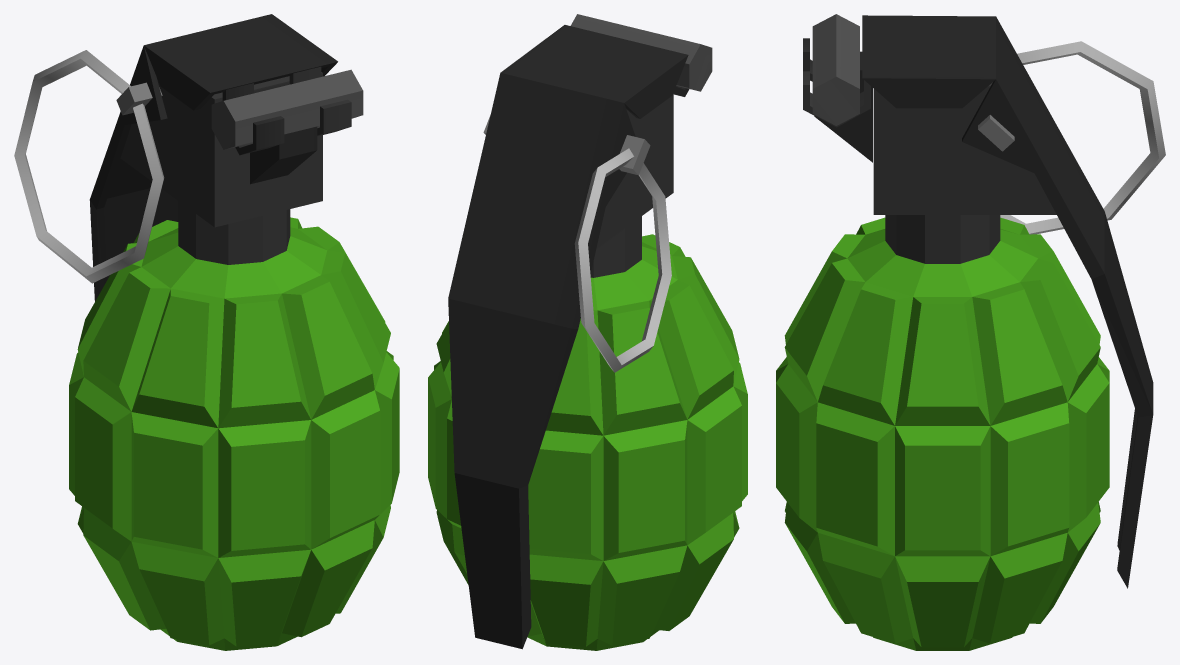
Rendered from Frag2.FBX.
3 views of the same model, side by side, from view 1: azimuth 30°, elevation 25°; view 2: azimuth 150°, elevation 25°; view 3: azimuth 270°, elevation 25° (orthographic). The views are drawn at different scales.
Parts seen in each view (by area): view 1: Sphere002, Sphere003, Object004, Object; view 2: Sphere003, Sphere002, Object004, Object; view 3: Sphere002, Sphere003, Object004, Object.
Boxes of the visible parts, left/top/right/bottom form: Sphere002: left=69, top=201, right=399, bottom=650; Sphere003: left=89, top=14, right=363, bottom=301; Object004: left=14, top=50, right=164, bottom=283; Object: left=116, top=82, right=162, bottom=115; Sphere003: left=448, top=14, right=712, bottom=649; Sphere002: left=428, top=216, right=747, bottom=650; Object004: left=574, top=148, right=671, bottom=372; Object: left=483, top=115, right=650, bottom=175; Sphere002: left=776, top=215, right=1109, bottom=650; Sphere003: left=803, top=14, right=1153, bottom=588; Object004: left=1000, top=41, right=1165, bottom=234; Object: left=978, top=115, right=1014, bottom=151.
Bounding box in the file's own units: 0.122 × 0.2359 × 0.1459.
